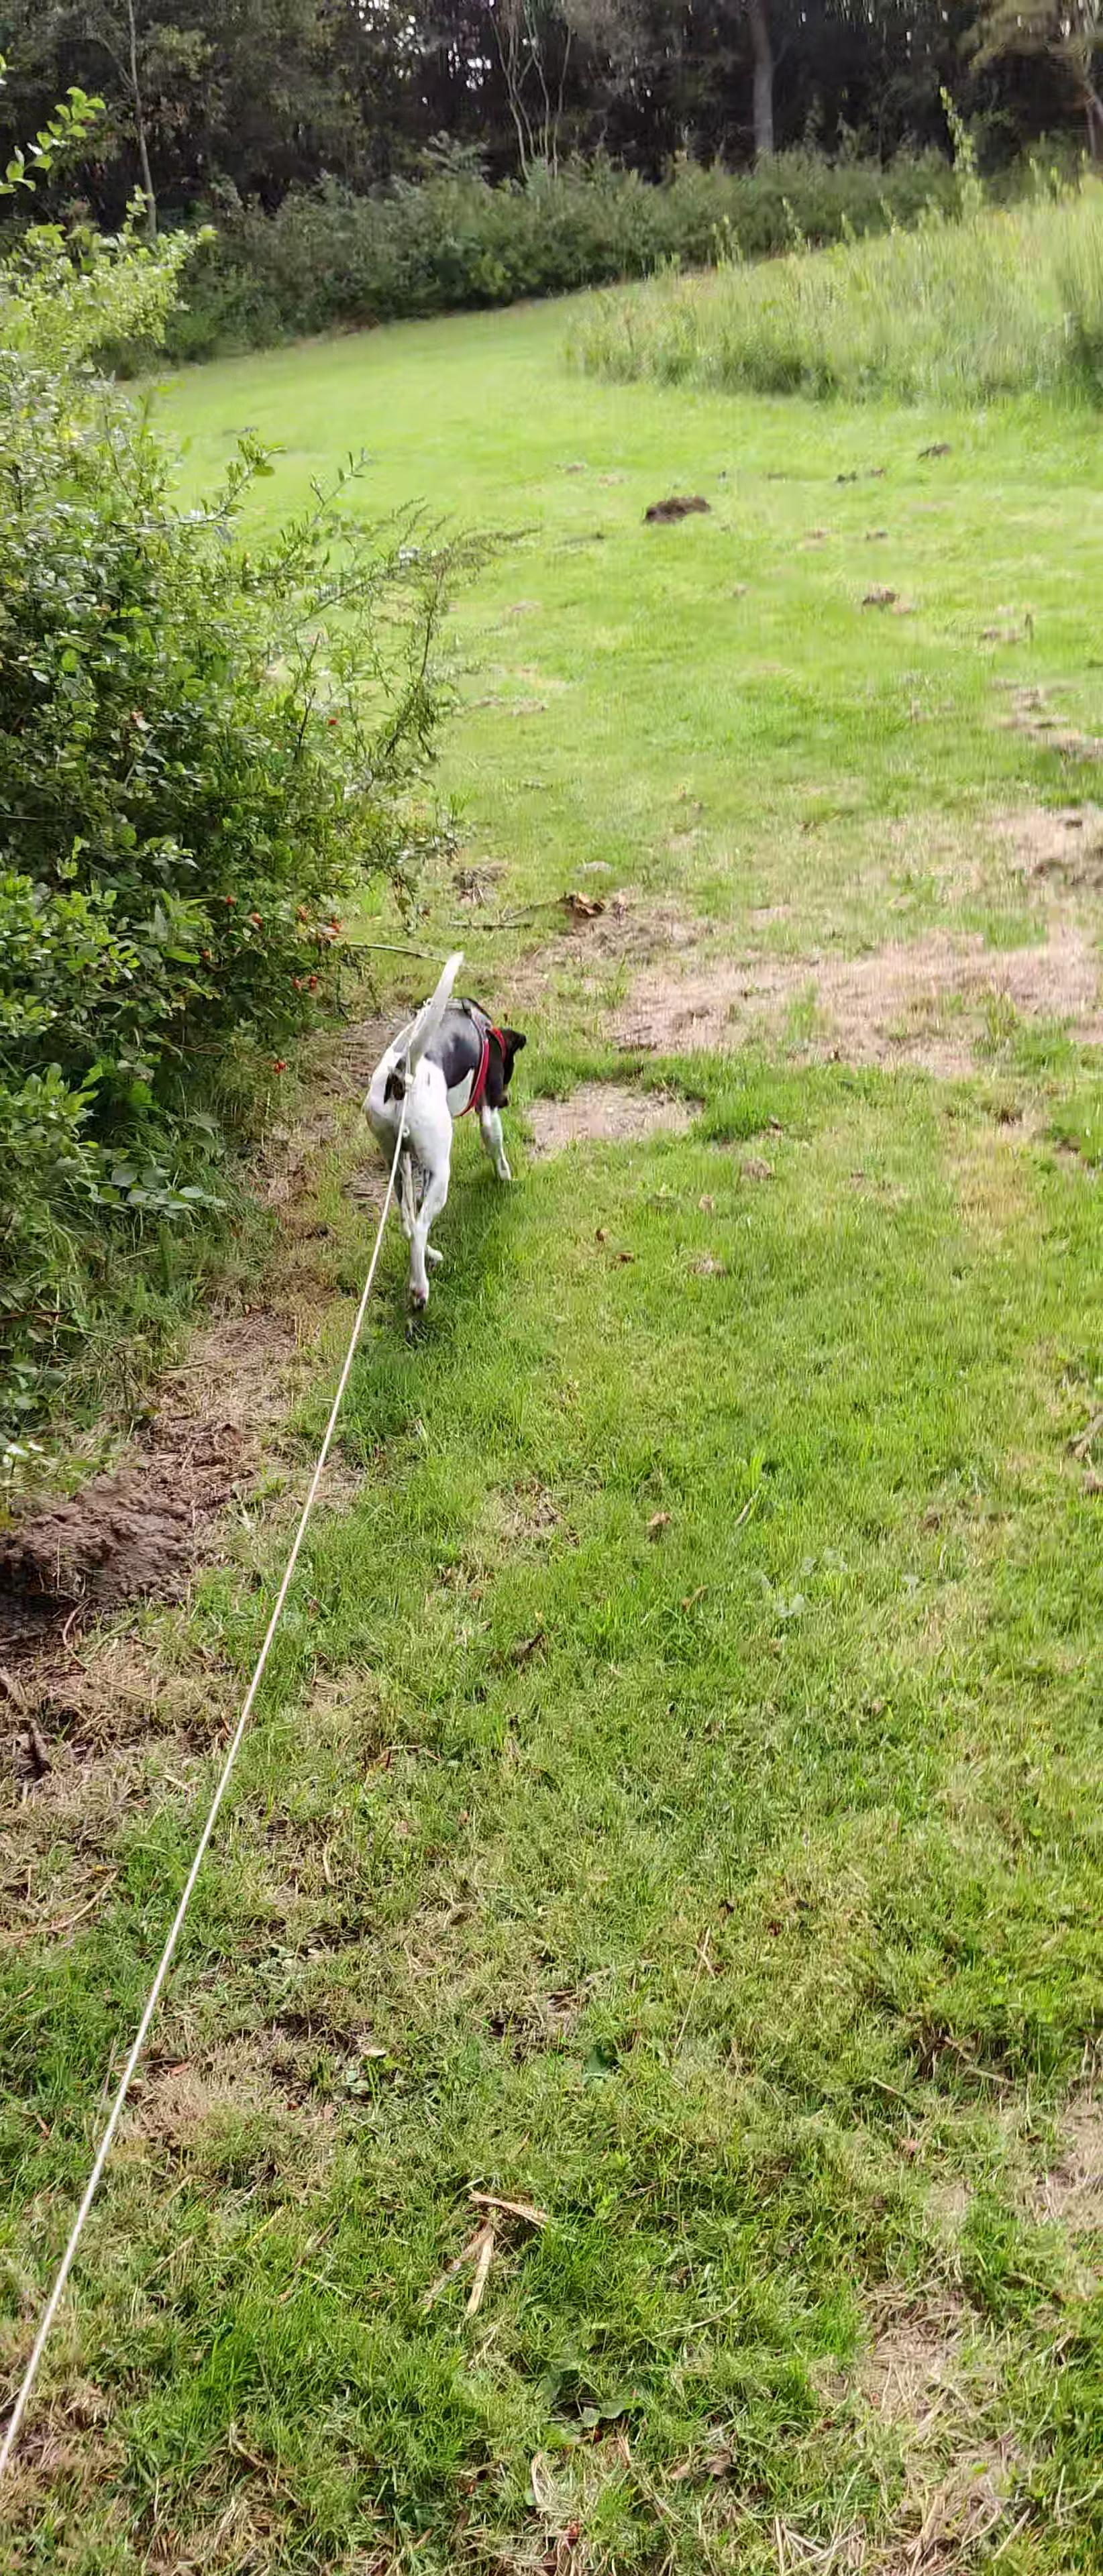Dog: (353, 940, 533, 1314)
